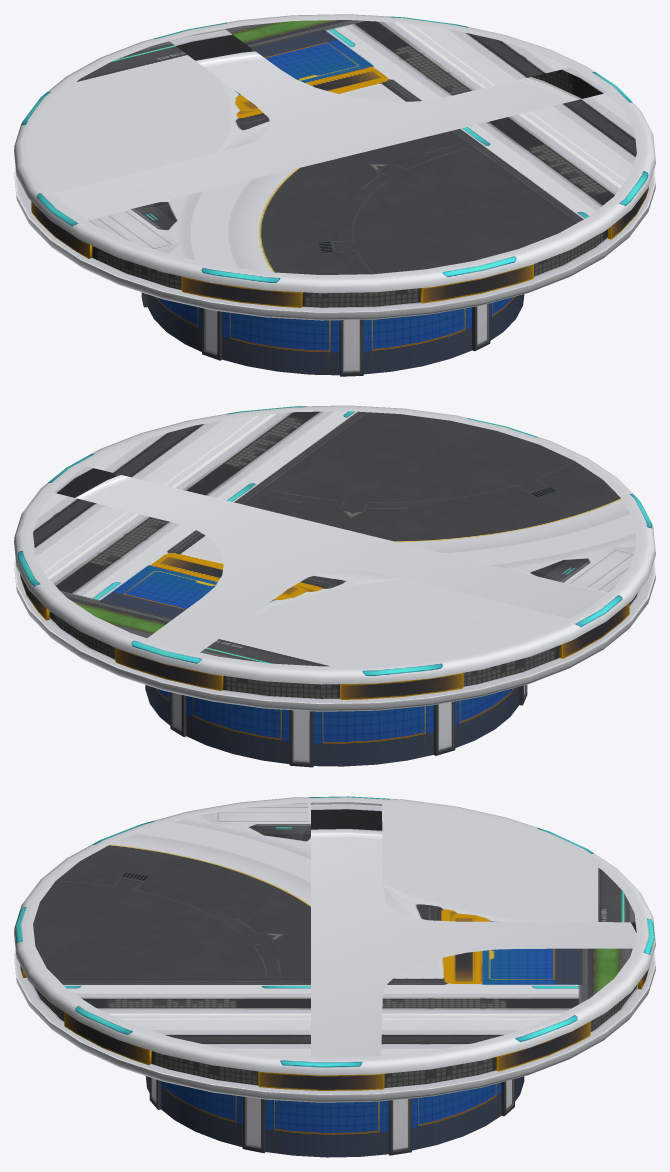
File: mesh_1002_syq_sd005.FBX
3 views of the same model, one above another, from view 1: azimuth 30°, elevation 25°; view 2: azimuth 150°, elevation 25°; view 3: azimuth 270°, elevation 25° (orthographic).
Visible parts, largest first — view 1: mesh_1002_syq_sd005b, mesh_1002_syq_sd005, mesh_1002_syq_sd005a; view 2: mesh_1002_syq_sd005b, mesh_1002_syq_sd005, mesh_1002_syq_sd005a; view 3: mesh_1002_syq_sd005b, mesh_1002_syq_sd005, mesh_1002_syq_sd005a.
Boxes of the visible parts, box(x1,y1,x2,y2) form: mesh_1002_syq_sd005b: box(33, 20, 636, 274); mesh_1002_syq_sd005: box(14, 14, 655, 376); mesh_1002_syq_sd005a: box(28, 18, 641, 277); mesh_1002_syq_sd005b: box(33, 411, 636, 666); mesh_1002_syq_sd005: box(14, 405, 655, 767); mesh_1002_syq_sd005a: box(28, 409, 641, 668); mesh_1002_syq_sd005b: box(33, 803, 635, 1056); mesh_1002_syq_sd005: box(14, 796, 655, 1157); mesh_1002_syq_sd005a: box(28, 800, 641, 1059).
Bounding box in the file's own units: 5867 × 1489 × 5867.
